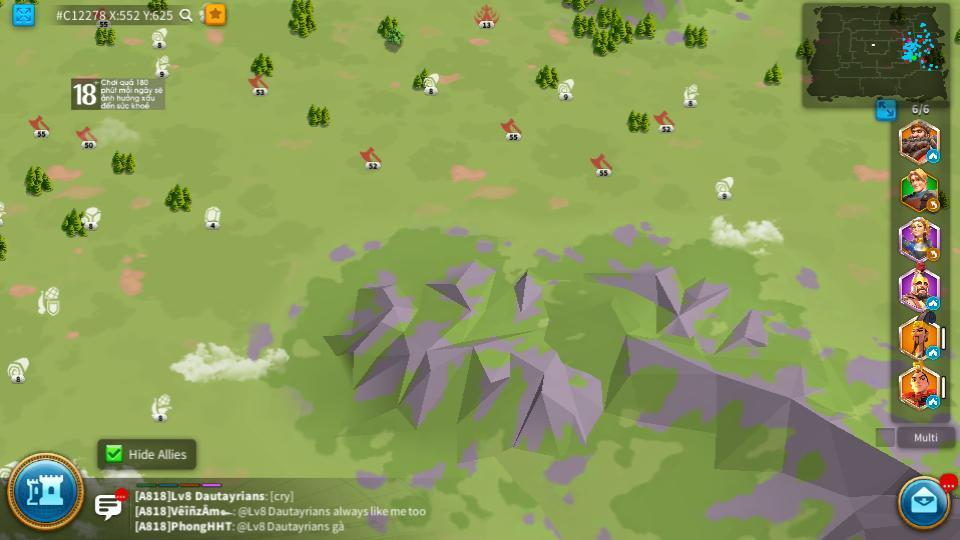gem-z-out: (202, 206, 222, 226)
march_idle: (926, 396, 940, 407), (926, 151, 940, 162), (927, 347, 940, 357), (925, 297, 938, 307)
march_returning: (926, 248, 941, 261), (927, 201, 940, 212)
